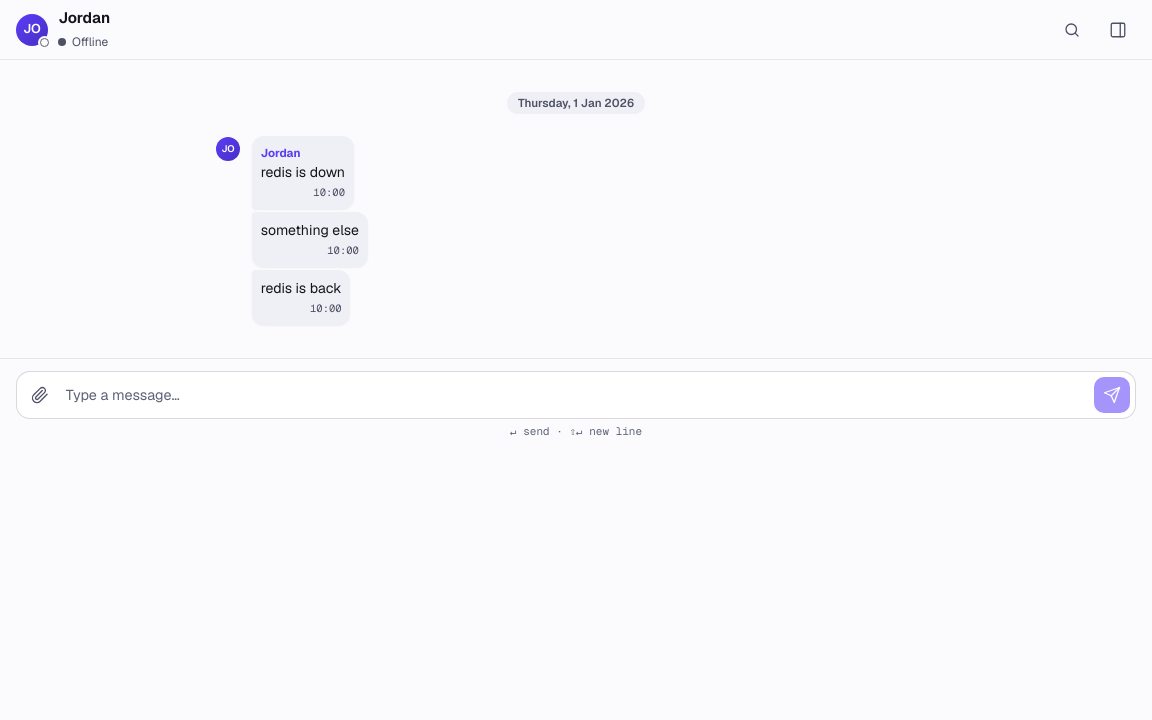
Test: ConversationRoom — searching this conversation › steps back with Enter, opening the history around a match that isn’t loaded
Click the button named "Search this conversation" at [1072, 30], box [1054,12,1090,48]
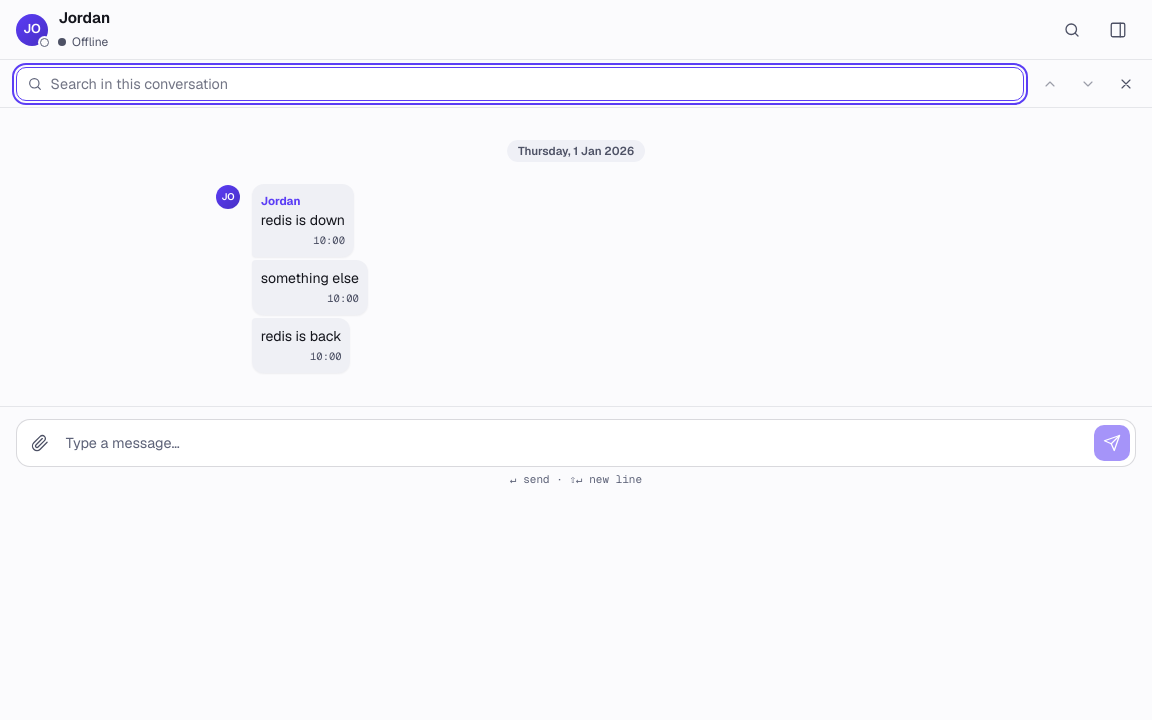
Type "redis" into the search field labelled "Search in this conversation" at [520, 84], box [16,66,1024,100]
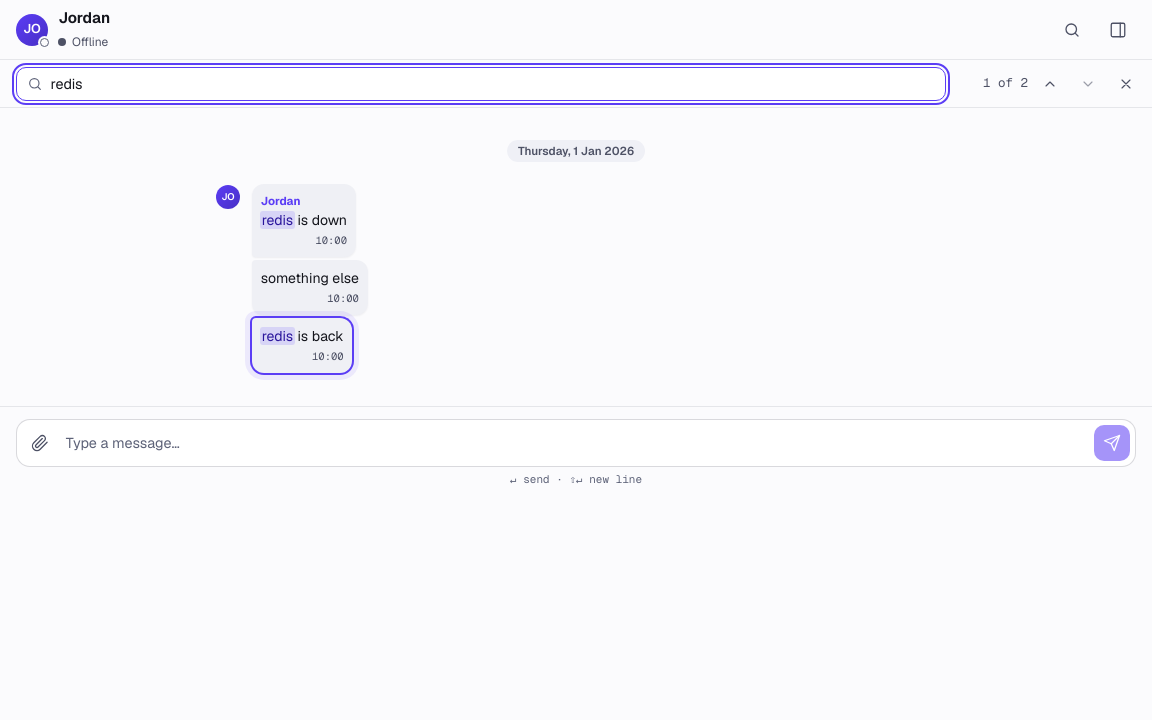
Expected: the text "1 of 2" is shown, [983,74,1028,91]
Press Enter
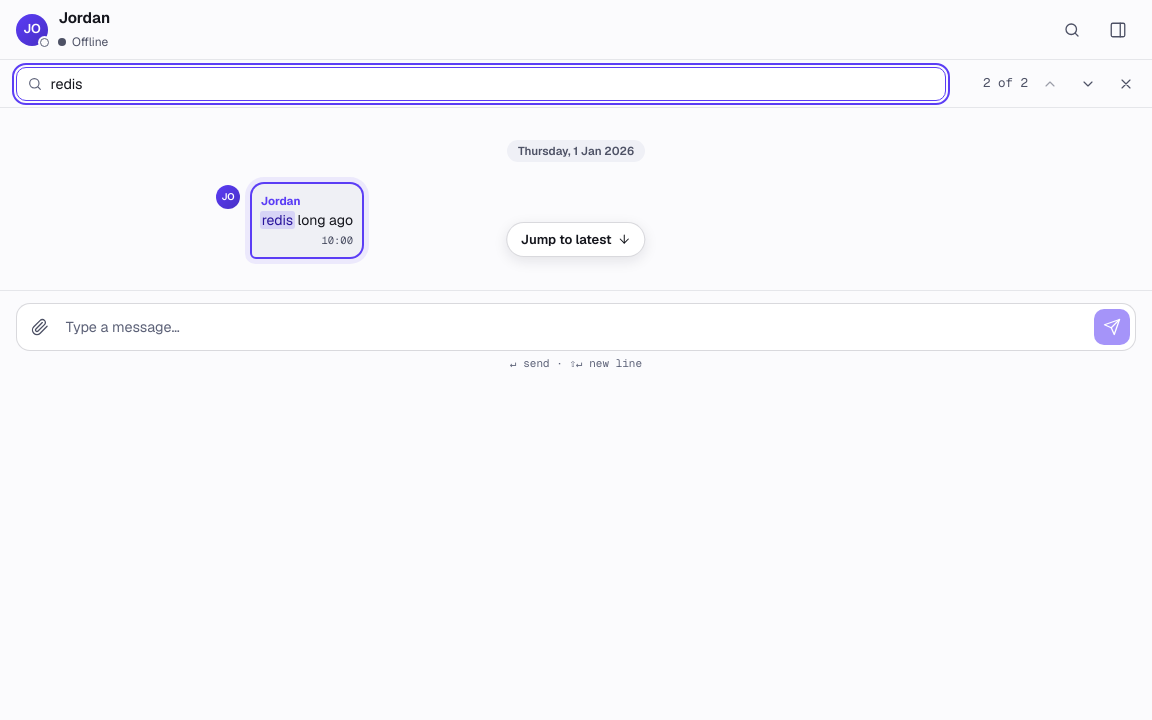
Expected: the button named "Older match" is disabled, [1034,68,1066,100]
Expected: the text "2 of 2" is shown, [983,74,1028,91]
Type keys "{Shift>}{Enter}{/Shift}"
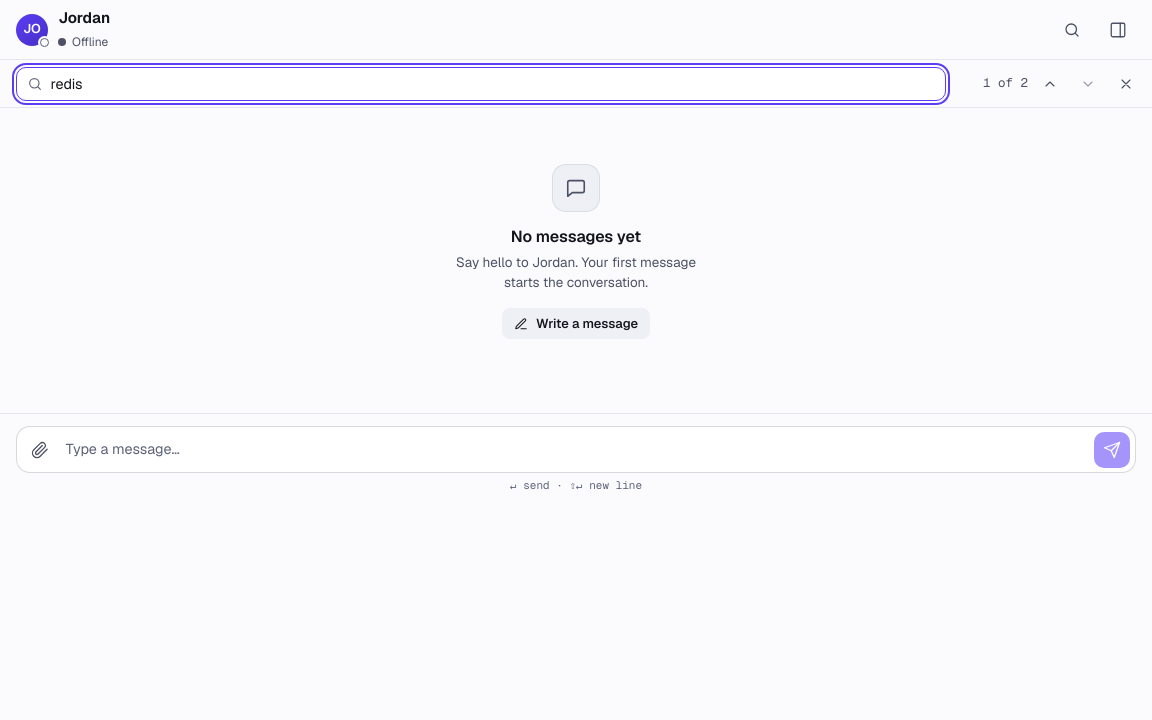
Expected: the text "1 of 2" is shown, [983,74,1028,91]
